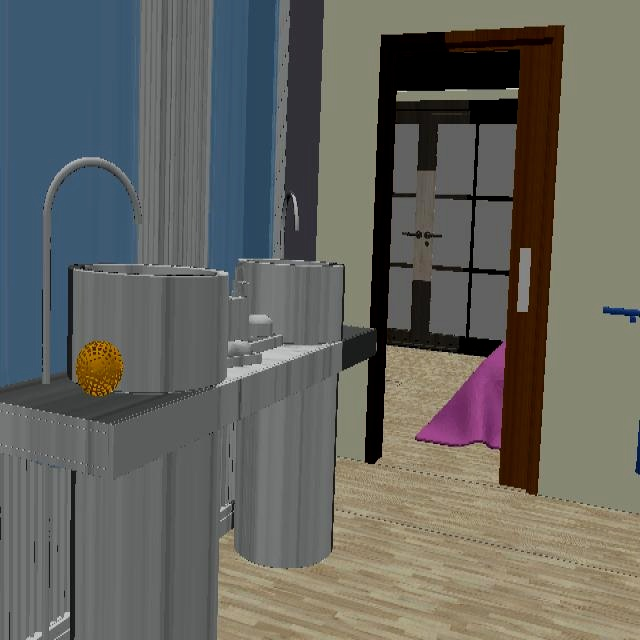washbasin: (66, 259, 344, 399)
